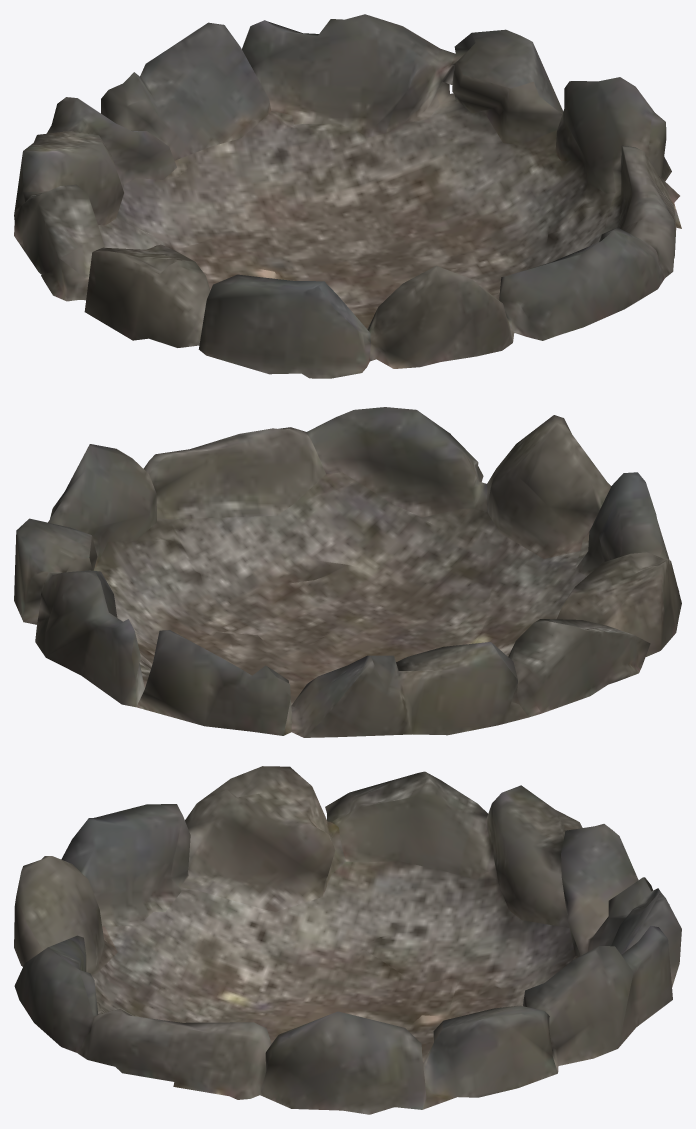
File: fire-pit.glb
3 views of the same model, one above another, from view 1: azimuth 30°, elevation 25°; view 2: azimuth 150°, elevation 25°; view 3: azimuth 270°, elevation 25° (orthographic).
Parts seen in each view (by area): view 1: stone_fire_pit; view 2: stone_fire_pit; view 3: stone_fire_pit.
Part boxes in pixels (x1,y1,x2,y2): stone_fire_pit: (14, 14, 681, 378); stone_fire_pit: (14, 407, 681, 737); stone_fire_pit: (14, 766, 681, 1114).
Size of the model in its own units: 1.45 by 0.3883 by 1.43.
Materials: 1 (1 with a texture image).
